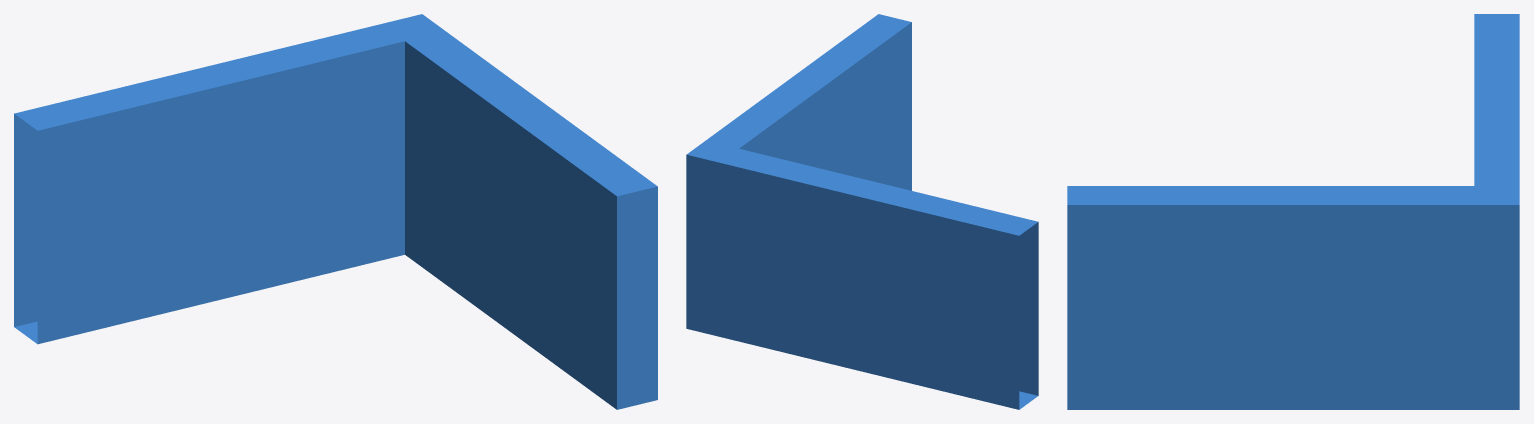
The model's file is Collision_Stairs_Exterior_Sides45.fbx.
3 views of the same model, side by side, from view 1: azimuth 30°, elevation 25°; view 2: azimuth 150°, elevation 25°; view 3: azimuth 270°, elevation 25° (orthographic). The views are drawn at different scales.
Parts seen in each view (by area): view 1: UCX_Stairs_Exterior_Sides45_1; view 2: UCX_Stairs_Exterior_Sides45_1; view 3: UCX_Stairs_Exterior_Sides45_1.
Part boxes in pixels (bbox=[...]): UCX_Stairs_Exterior_Sides45_1: bbox=[14, 14, 657, 409]; UCX_Stairs_Exterior_Sides45_1: bbox=[686, 14, 1038, 409]; UCX_Stairs_Exterior_Sides45_1: bbox=[1067, 14, 1519, 409].
Bounding box in the file's own units: 200 × 100 × 200.
